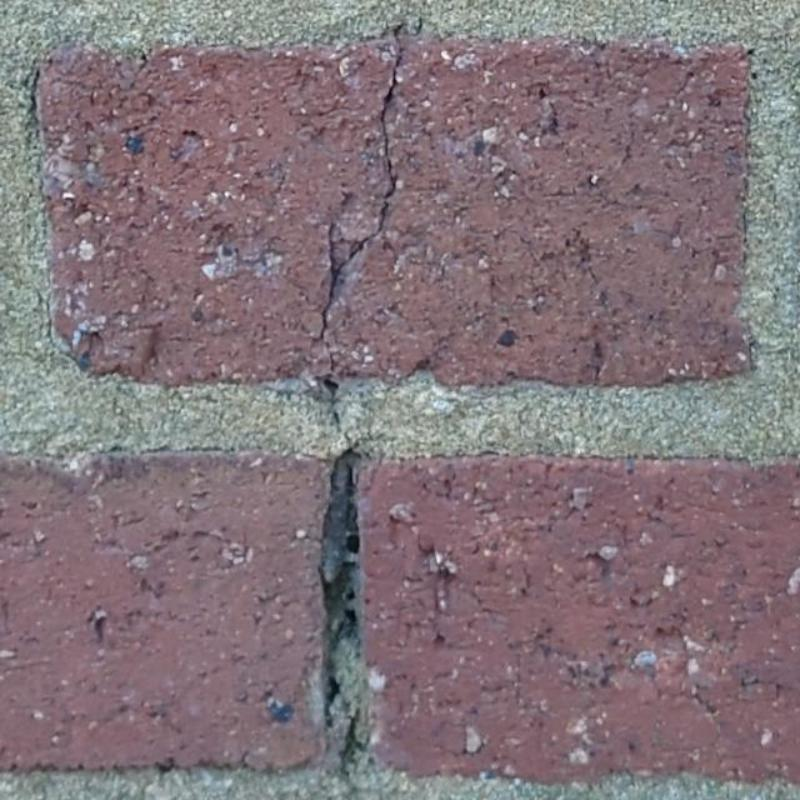pothole: (324, 38, 407, 401), (323, 452, 361, 760), (339, 710, 370, 771)
